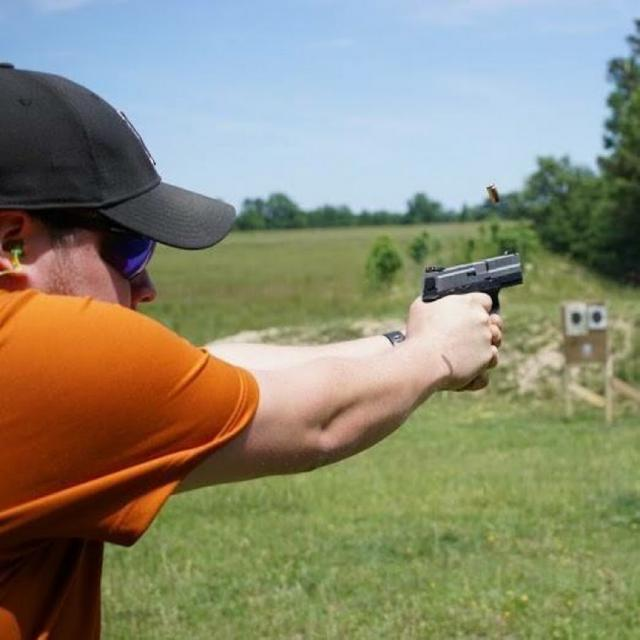handgun: (420, 246, 526, 316)
